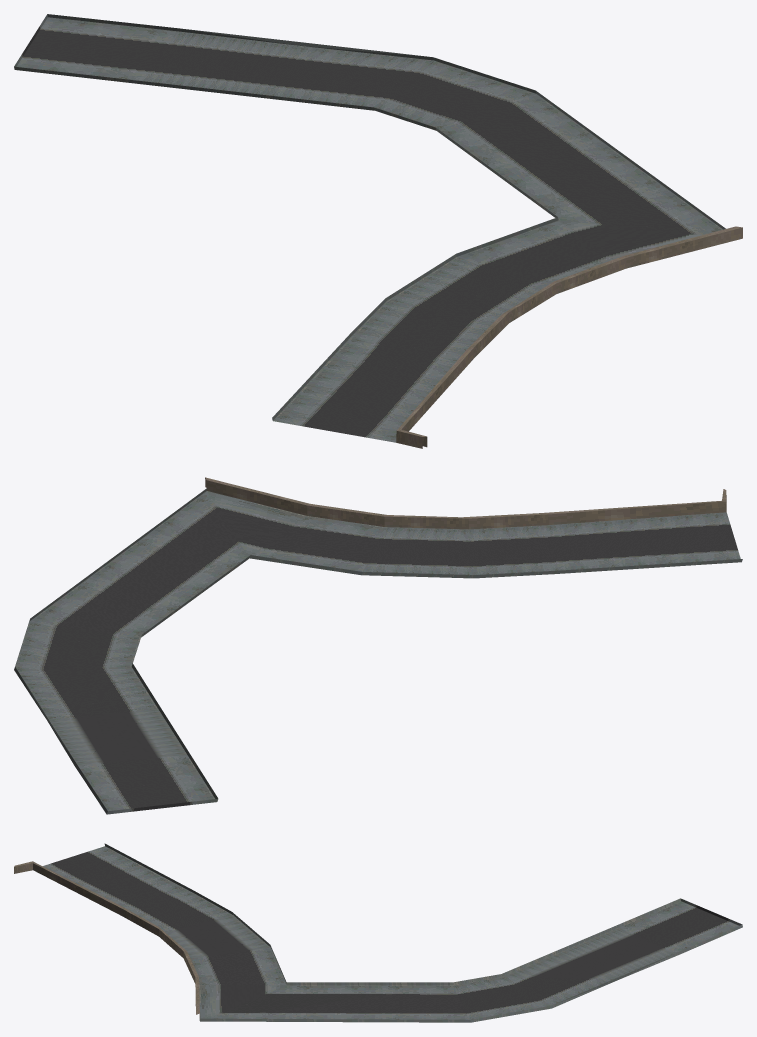
File: lodoads_23_las.obj
3 views of the same model, one above another, from view 1: azimuth 30°, elevation 25°; view 2: azimuth 150°, elevation 25°; view 3: azimuth 270°, elevation 25° (orthographic). The views are drawn at different scales.
Visible parts, largest first — view 1: LODoads_23_LAs; view 2: LODoads_23_LAs; view 3: LODoads_23_LAs.
Boxes of the visible parts, bbox=[...] form: LODoads_23_LAs: bbox=[14, 14, 742, 448]; LODoads_23_LAs: bbox=[14, 477, 742, 814]; LODoads_23_LAs: bbox=[14, 843, 742, 1022].
Bounding box in the file's own units: 96.41 × 2.31 × 167.
2 materials, 2 textured.
